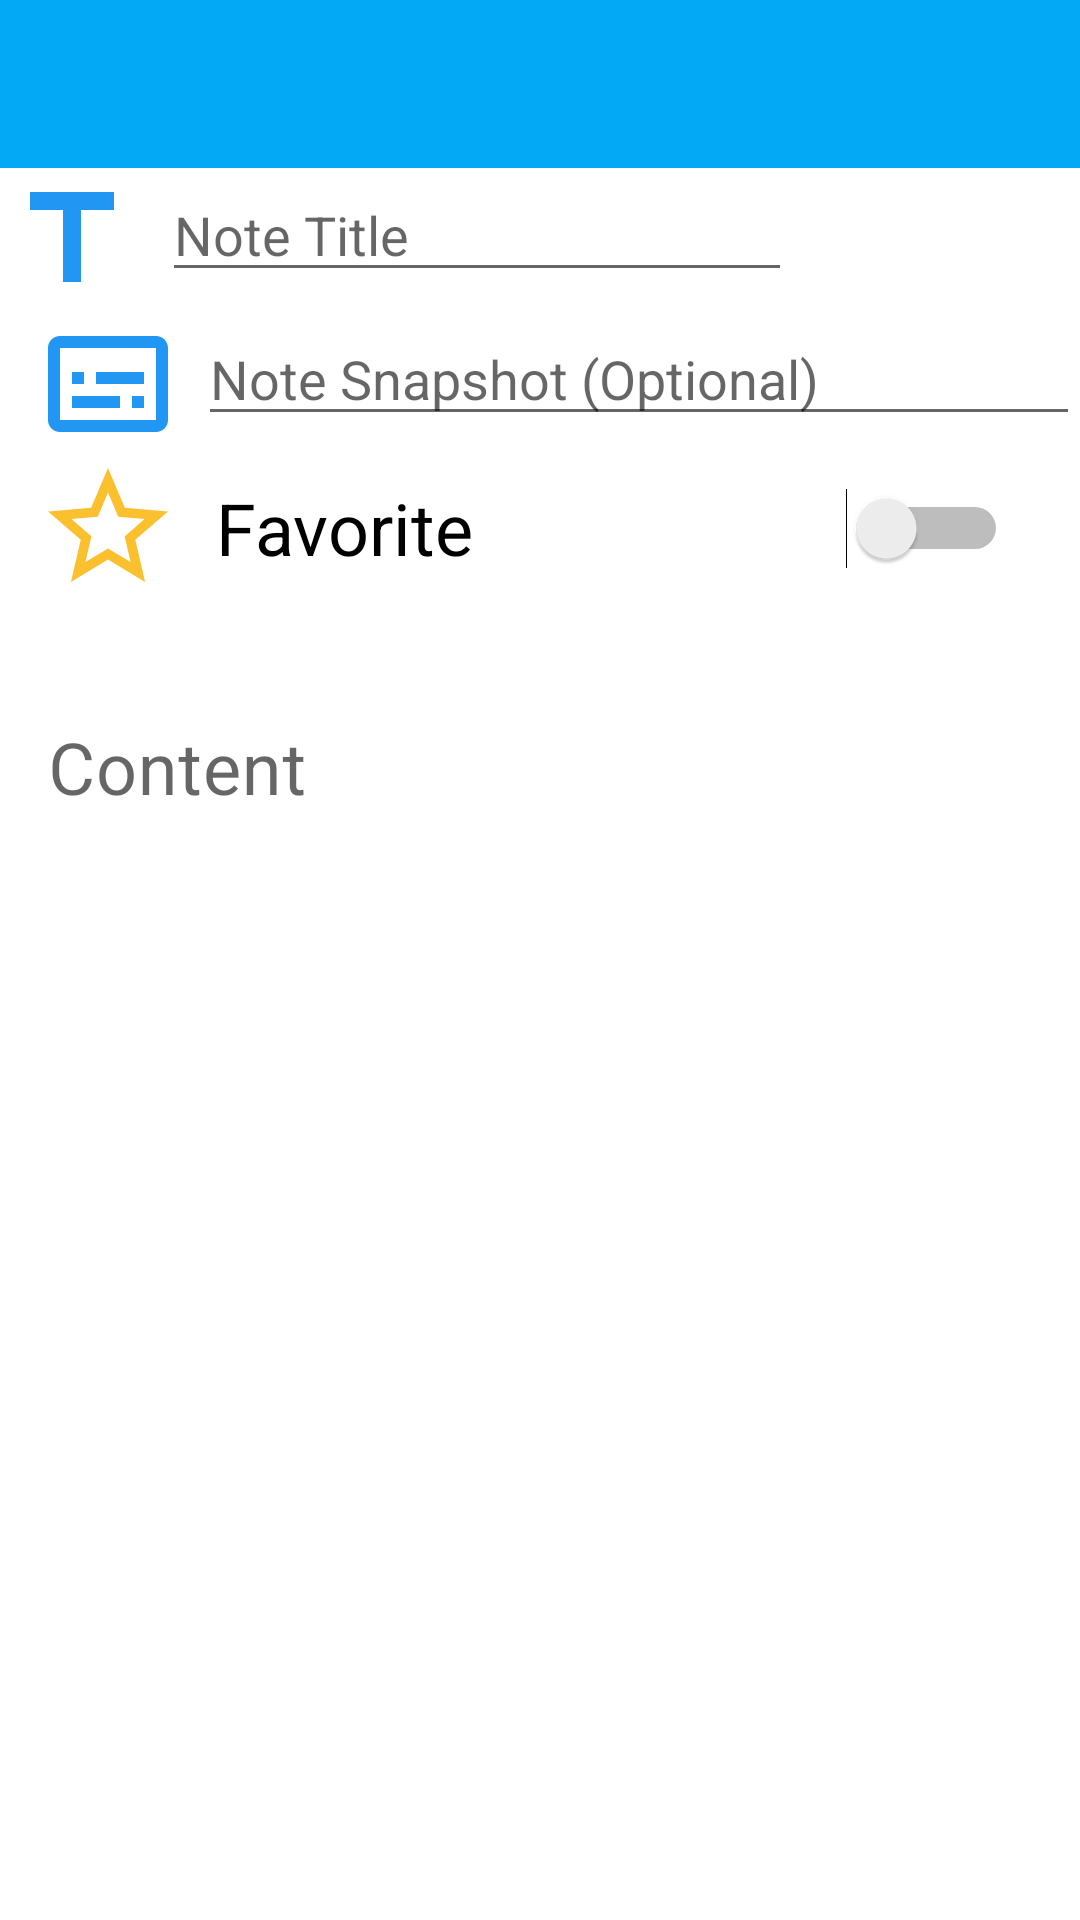

Where icons sit on this 1080×1920 app screen, as BBox(x1, y1, x2, y2):
star border: BBox(48, 468, 168, 582)
subtitles: BBox(48, 336, 168, 432)
